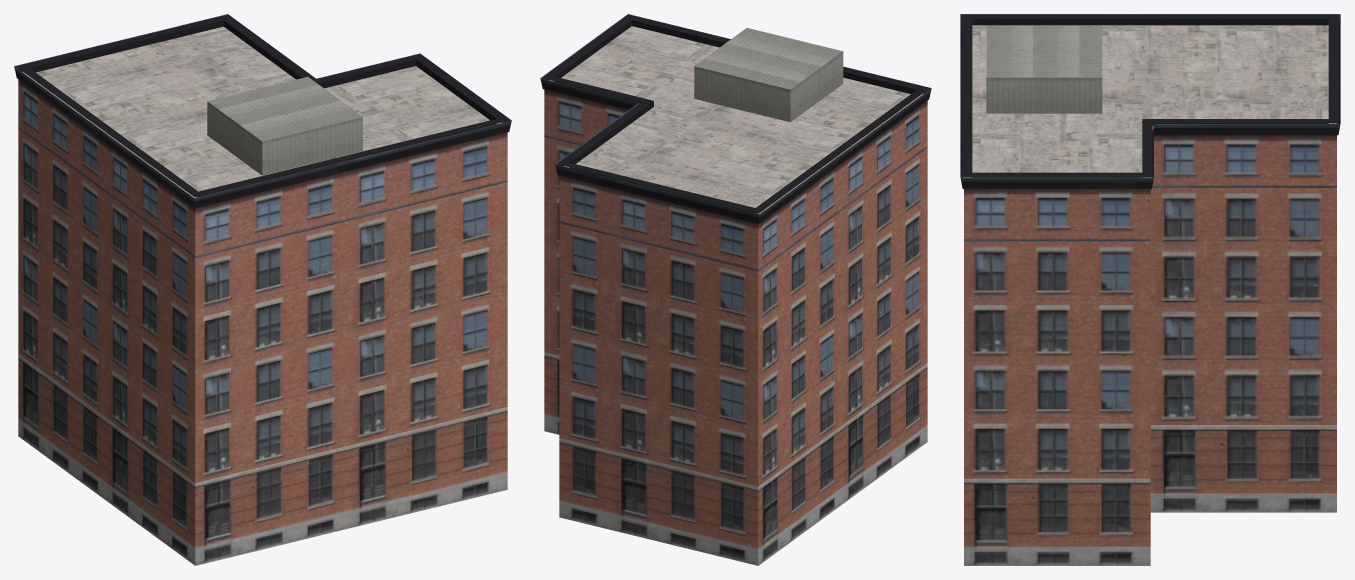
The model's file is building_25.obj.
3 renders of one model, left to right at view 1: azimuth 30°, elevation 25°; view 2: azimuth 150°, elevation 25°; view 3: azimuth 270°, elevation 25°, orthographic. The views are drawn at different scales.
Parts seen in each view (by area): view 1: building_25; view 2: building_25; view 3: building_25.
Boxes of the visible parts, x1=… form: building_25: x1=14, y1=14, x2=511, y2=565; building_25: x1=540, y1=14, x2=931, y2=565; building_25: x1=960, y1=14, x2=1340, y2=565.
Bounding box in the file's own units: 60.51 × 72.4 × 59.45.
Materials: 1 (1 with a texture image).
